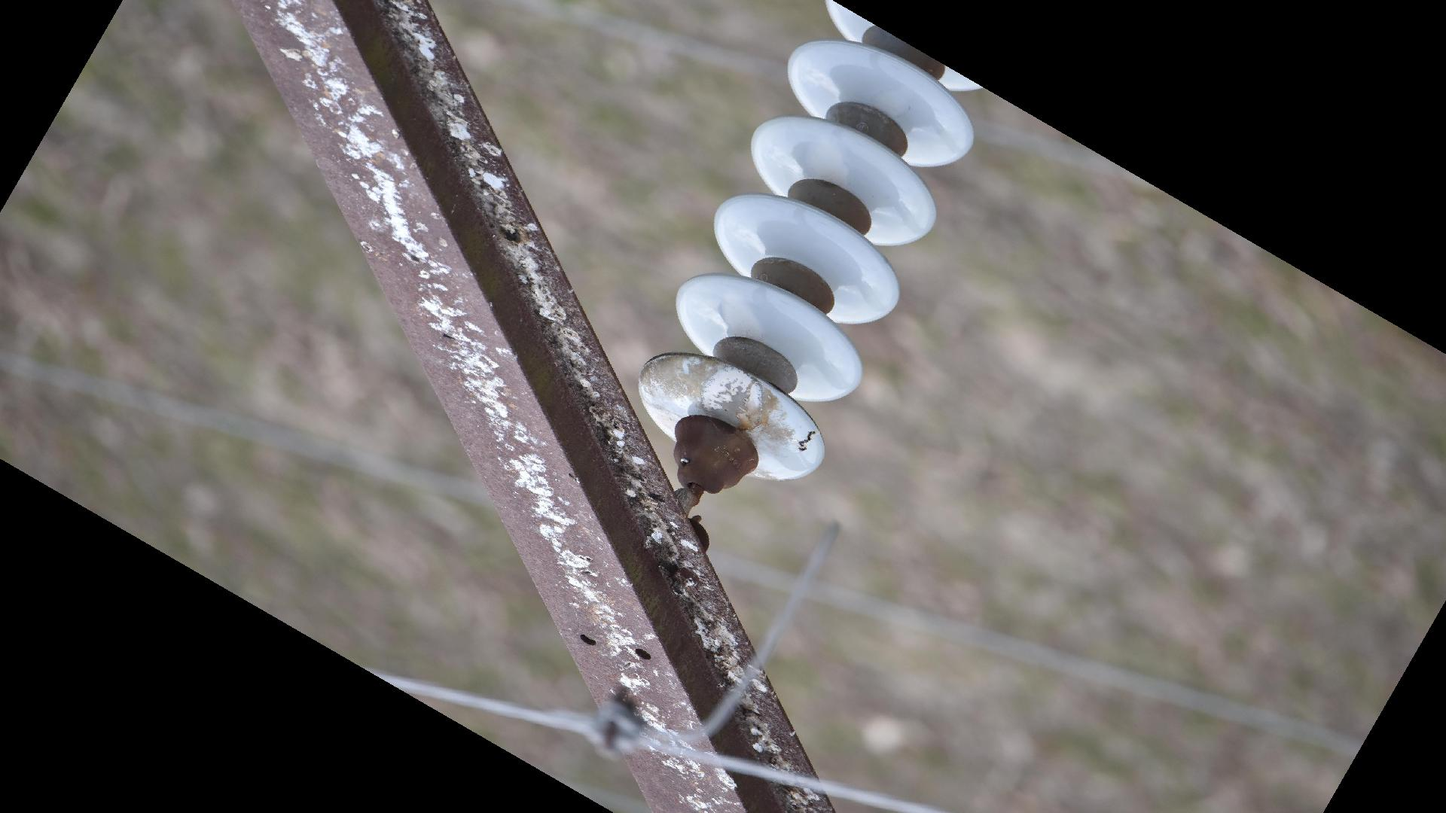insulator: (633, 1, 990, 489)
insulator_flashover: (697, 364, 765, 435)
